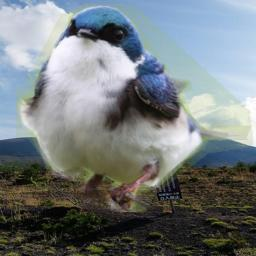Swallow: (16, 4, 253, 212)
